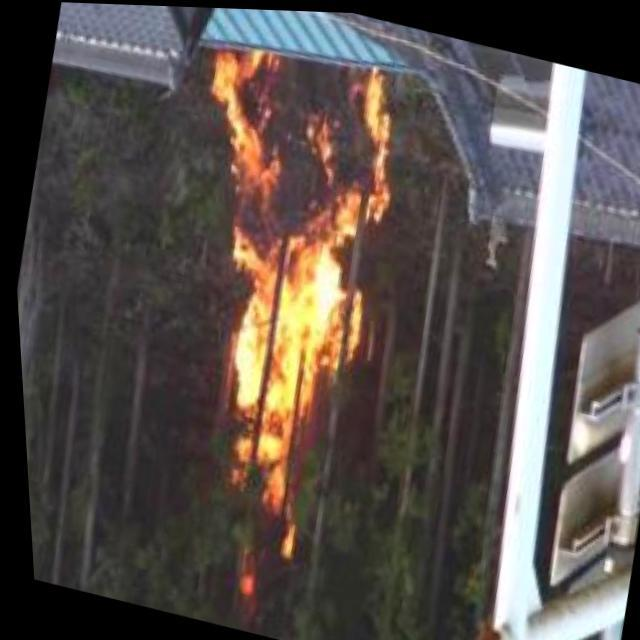fire: (122, 26, 424, 528)
